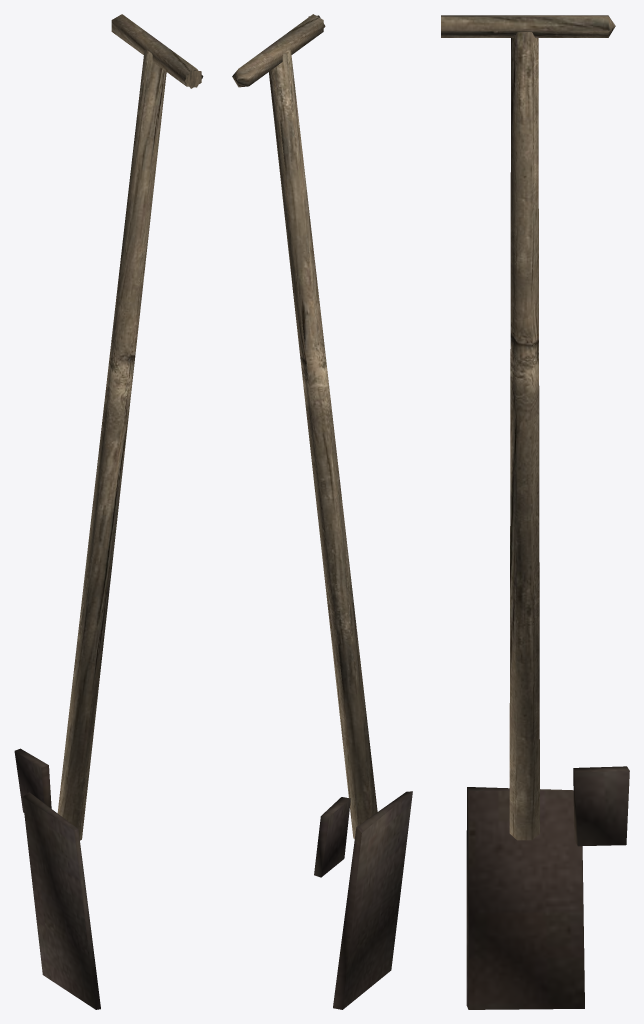
File: kit_sf_turf_spade_p.glb
3 renders of one model, left to right at view 1: azimuth 30°, elevation 25°; view 2: azimuth 150°, elevation 25°; view 3: azimuth 270°, elevation 25°, orthographic. The views are drawn at different scales.
Visible parts, largest first — view 1: kit_sf_turf_spade_p; view 2: kit_sf_turf_spade_p; view 3: kit_sf_turf_spade_p.
Boxes of the visible parts, x1=… form: kit_sf_turf_spade_p: x1=14, y1=14, x2=203, y2=1009; kit_sf_turf_spade_p: x1=232, y1=14, x2=412, y2=1009; kit_sf_turf_spade_p: x1=441, y1=15, x2=629, y2=1009.
Bounding box in the file's own units: 0.2005 × 1.51 × 0.2481.
1 material, 1 textured.
